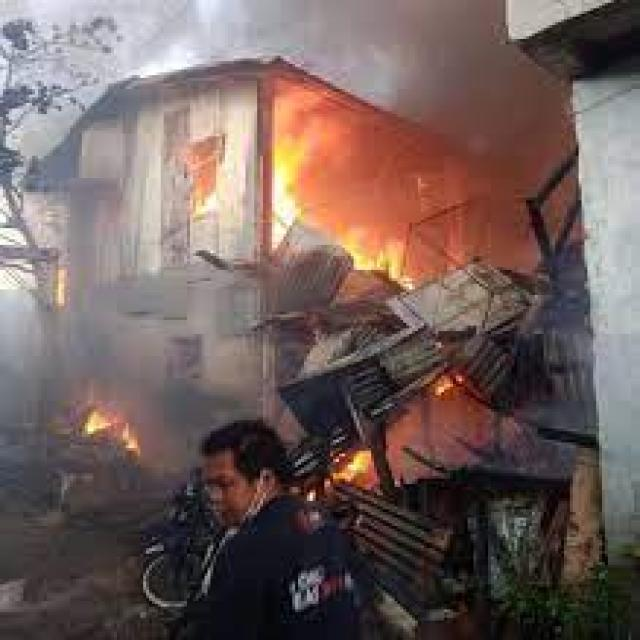Fire: (266, 108, 398, 292)
Smoke: (130, 4, 640, 196)
